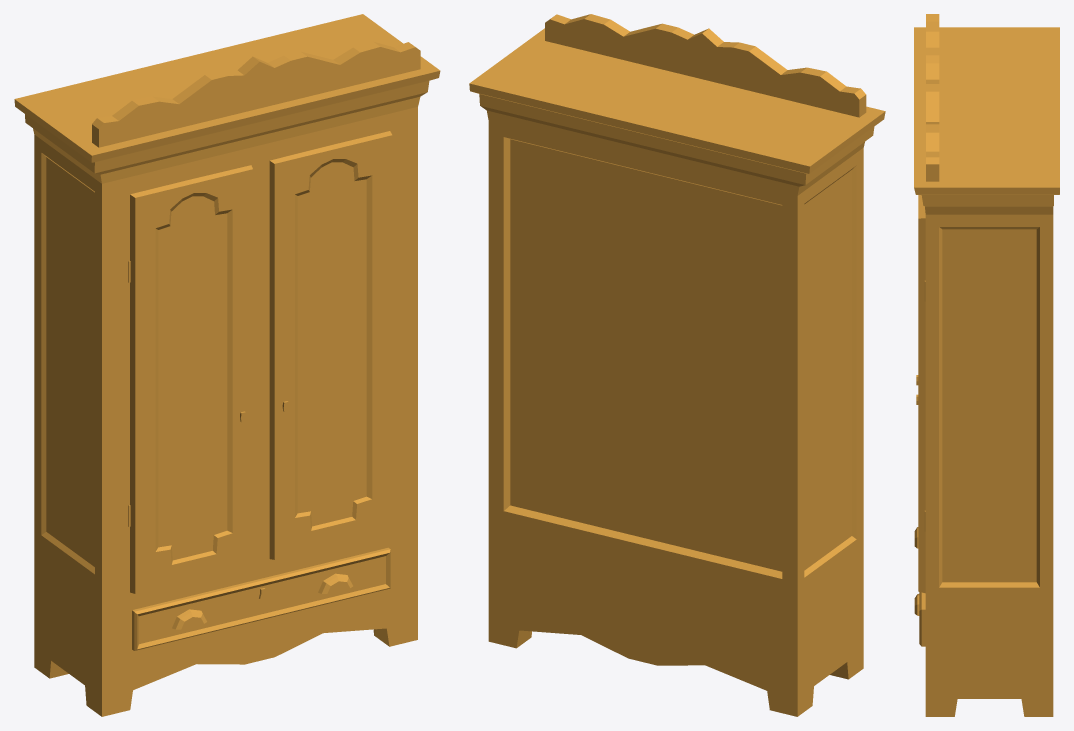
The model's file is SM_Wardrobe_Victorian_A.fbx.
The picture shows the model from 3 angles, left to right: view 1: azimuth 30°, elevation 25°; view 2: azimuth 150°, elevation 25°; view 3: azimuth 270°, elevation 25°; orthographic projection. The views are drawn at different scales.
Parts seen in each view (by area): view 1: wardrobe-victorian-a-base, wardrobe-victorian-a-door-r, wardrobe-victorian-a-door-l, wardrobe-victorian-a-drawer; view 2: wardrobe-victorian-a-base; view 3: wardrobe-victorian-a-base, wardrobe-victorian-a-door-r, wardrobe-victorian-a-drawer.
Boxes of the visible parts, x1,y1,x2,y2 form: wardrobe-victorian-a-base: (14, 14, 440, 716); wardrobe-victorian-a-door-r: (269, 131, 392, 559); wardrobe-victorian-a-door-l: (128, 165, 252, 593); wardrobe-victorian-a-drawer: (132, 547, 390, 650); wardrobe-victorian-a-base: (469, 14, 885, 716); wardrobe-victorian-a-base: (914, 14, 1059, 716); wardrobe-victorian-a-door-r: (916, 195, 925, 593); wardrobe-victorian-a-drawer: (914, 527, 925, 646).
Size of the model in its own units: 1.3 by 2.2 by 0.5009.
